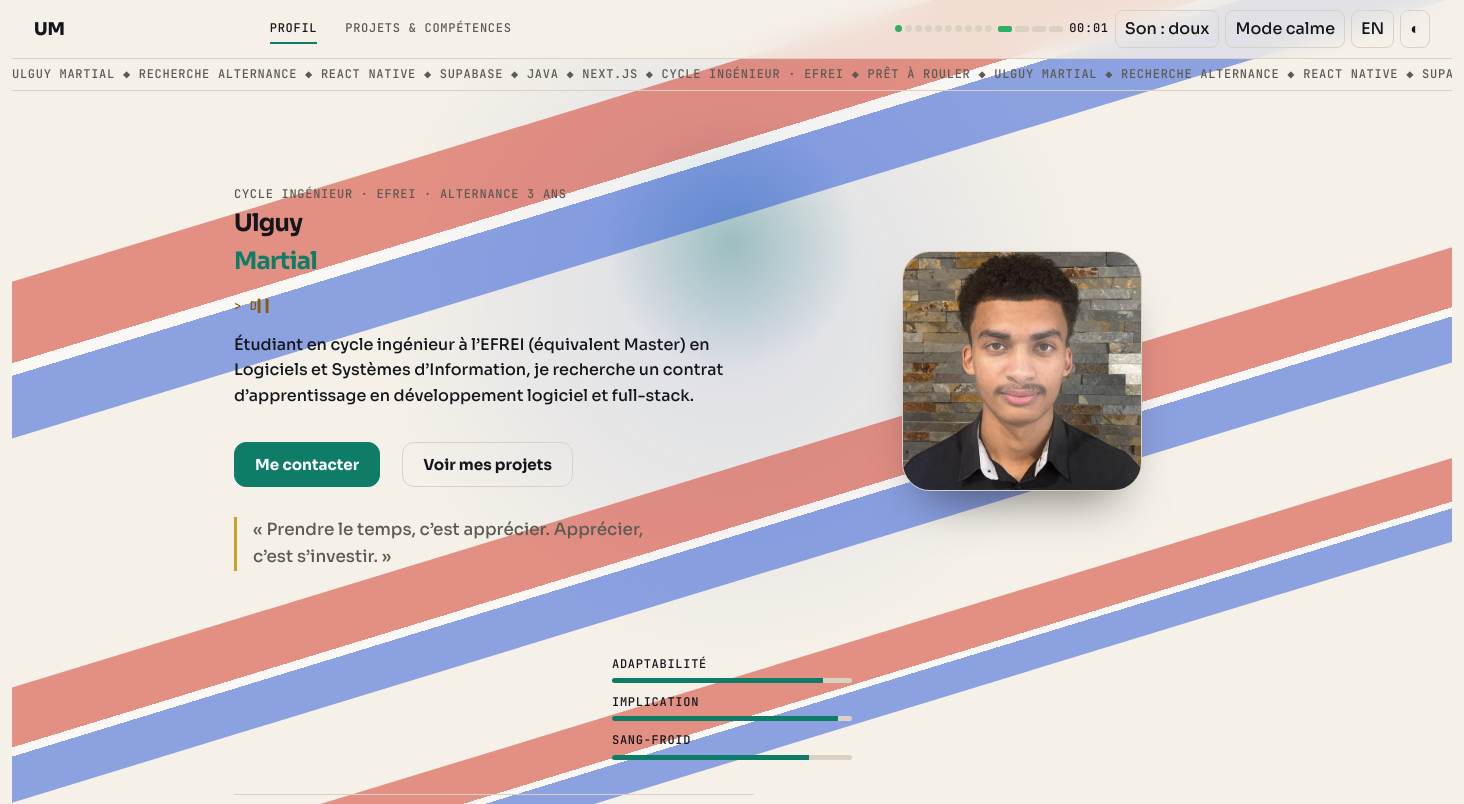
portfolio integration › stops Project sounds after the shared sound level is muted
Later steps or results of the test are not shown.
Click the button with id "snd": [1167, 29] box [1115,10,1220,48]
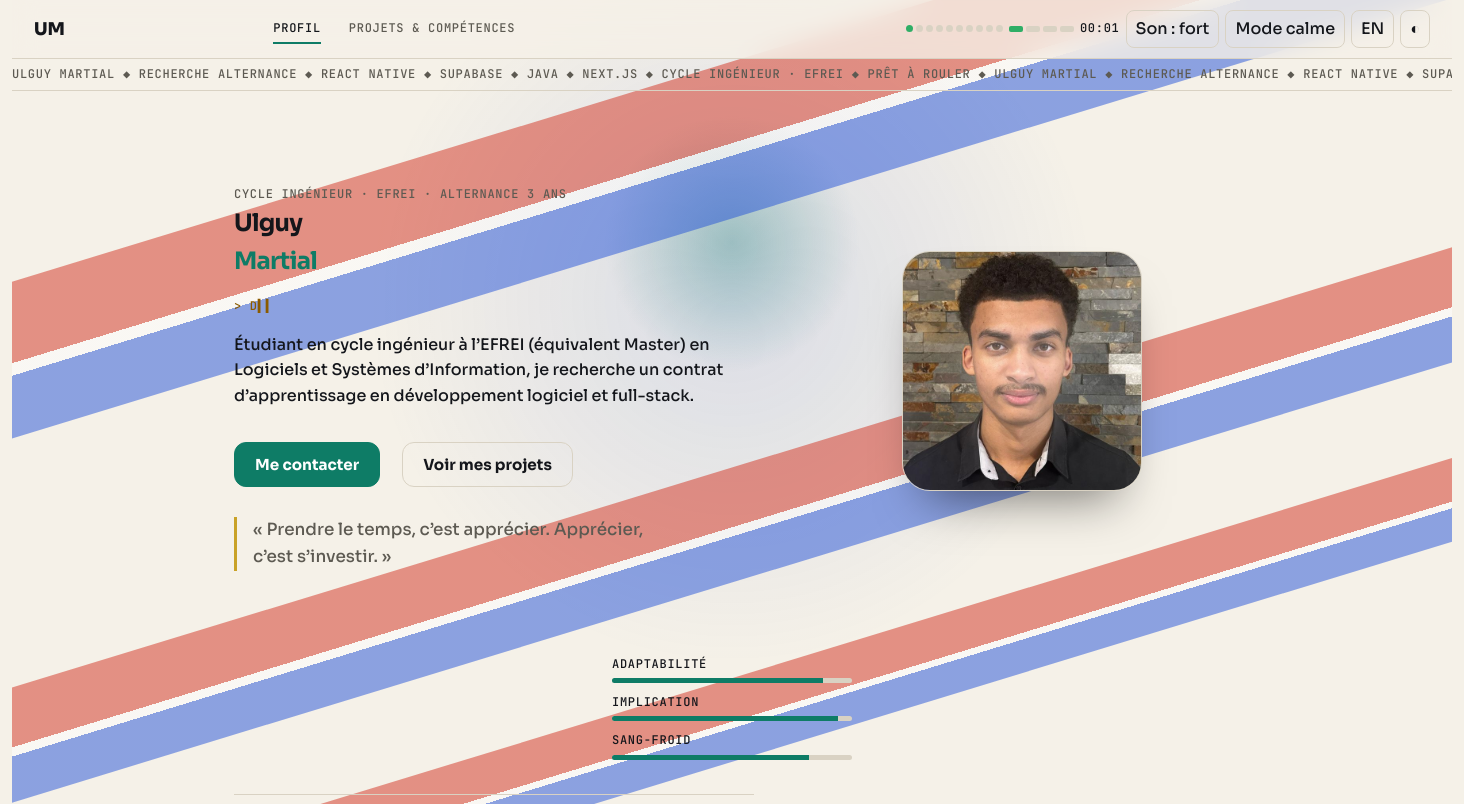
Click the button with id "snd": [1172, 29] box [1126,10,1220,48]
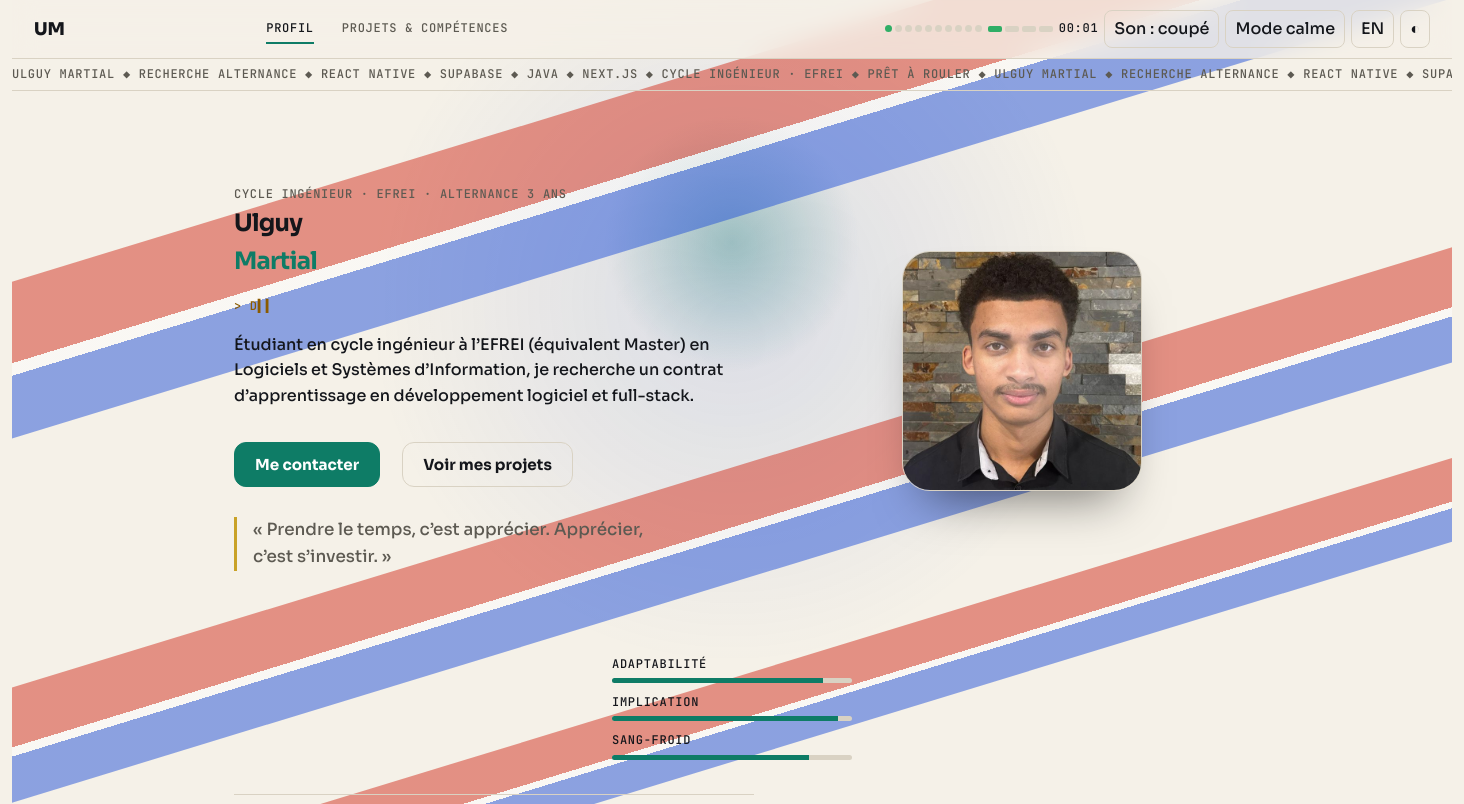
Expected: the button with id "snd" reads "Son : coupé", [1104,10,1220,48]
